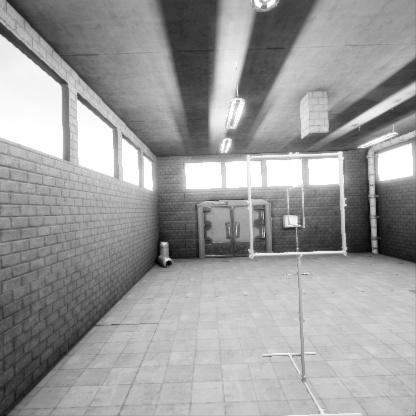gate: (248, 165, 348, 264), (287, 190, 305, 232)
